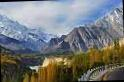right_turn: (104, 51, 124, 80)
